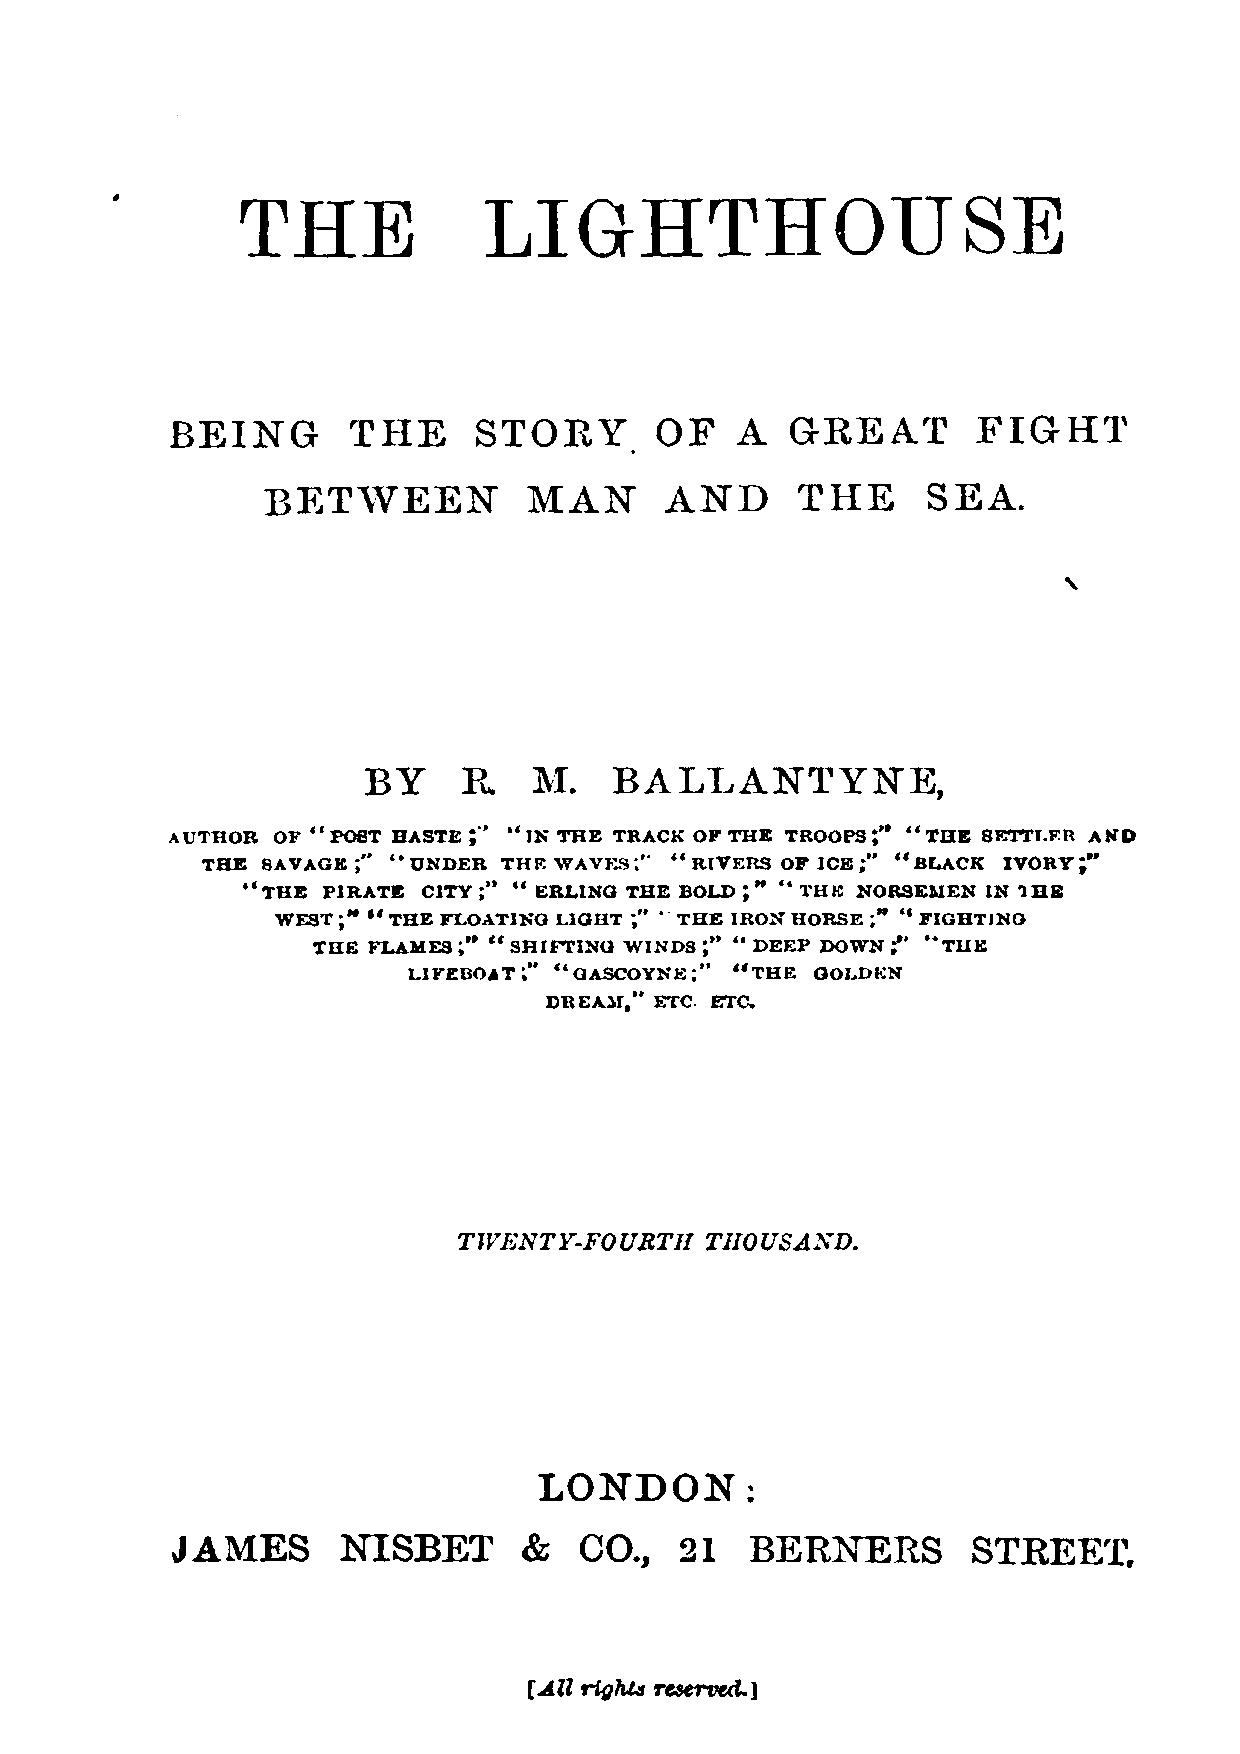author: (360, 764, 943, 803)
title: (232, 195, 1067, 258)
